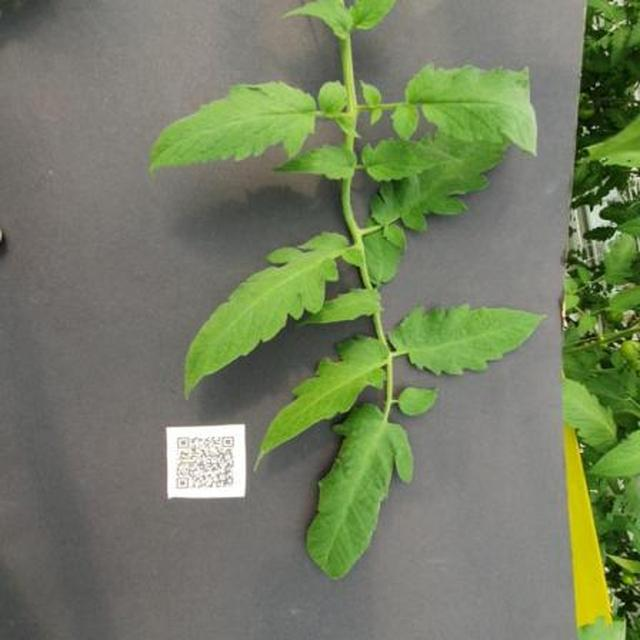Healthy Leaf: (59, 44, 640, 640)
